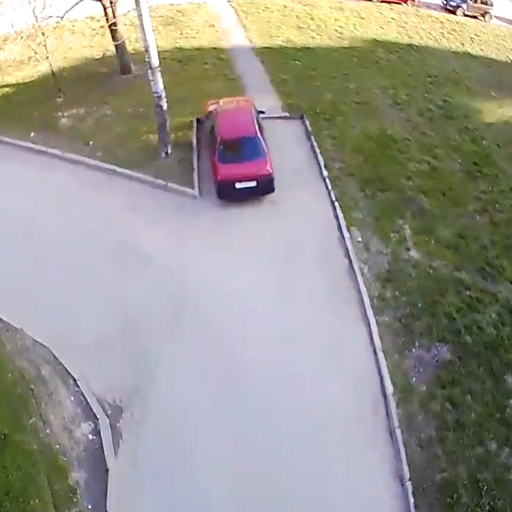Car: (205, 98, 277, 198), (442, 1, 497, 23)
